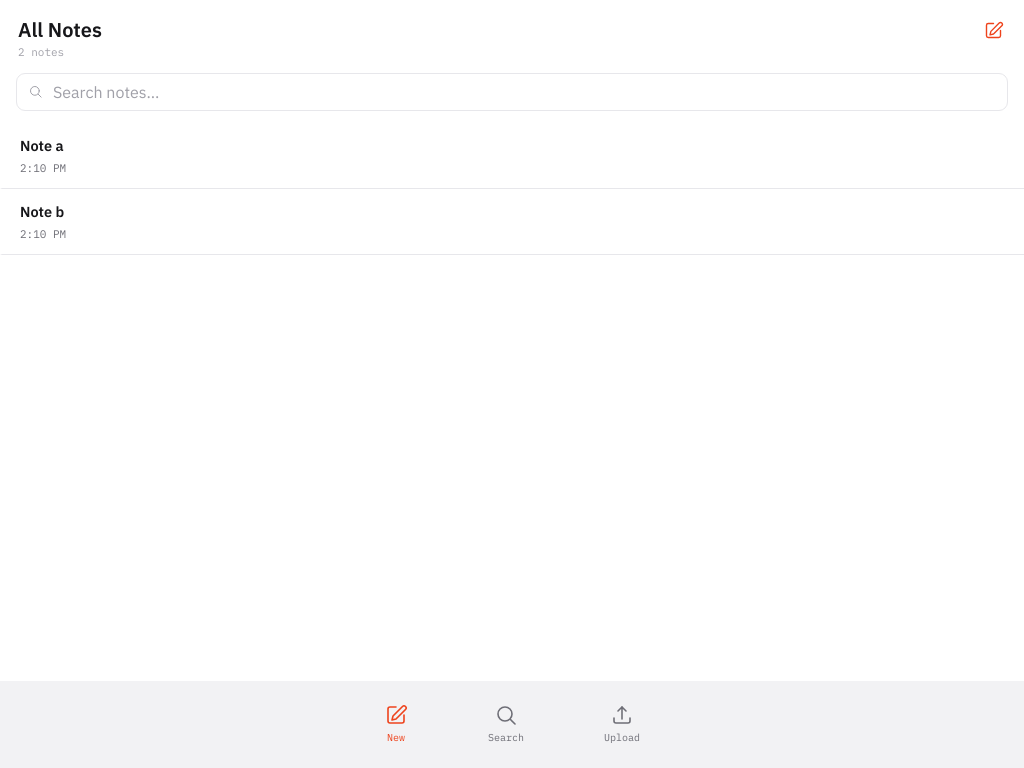
Test: HomeView search — desktop (in-place in the list pane, no /search hop) › the ✕ clears the query and restores the list; the field stays live (no closed state)
Type "gro" into the search field with class "home__search-input" at (524,92), box [51,80,996,102]
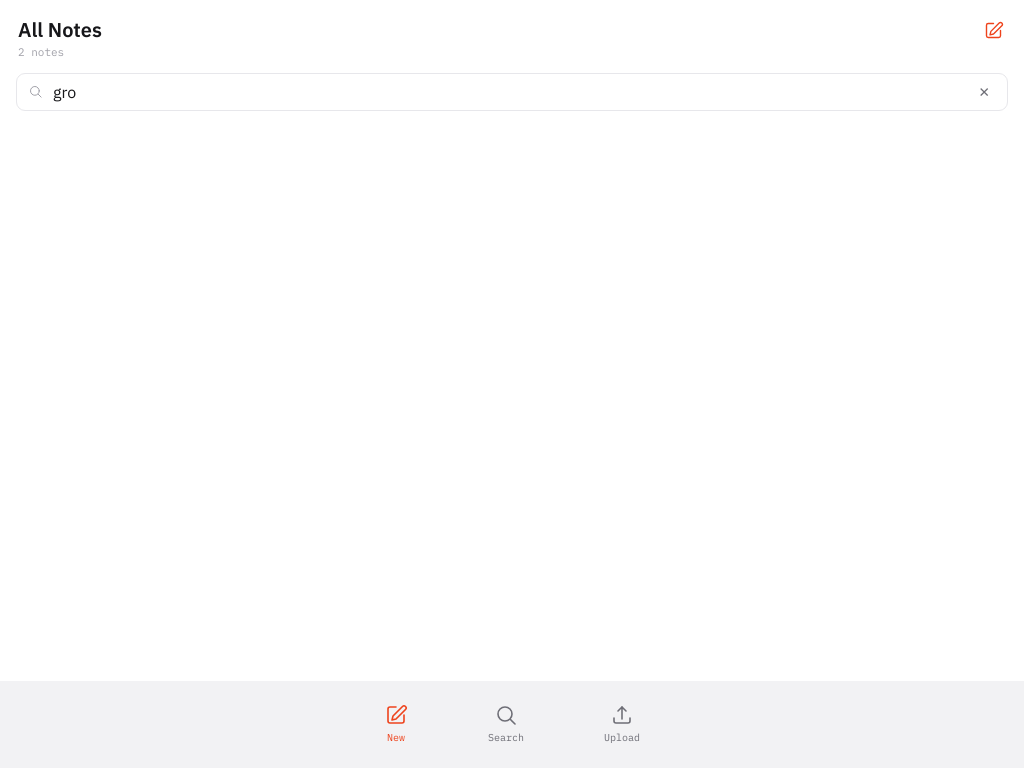
Expected: the button with class "home__search-close" is shown
Click the button with class "home__search-close" at (984,92), box [973,82,996,102]
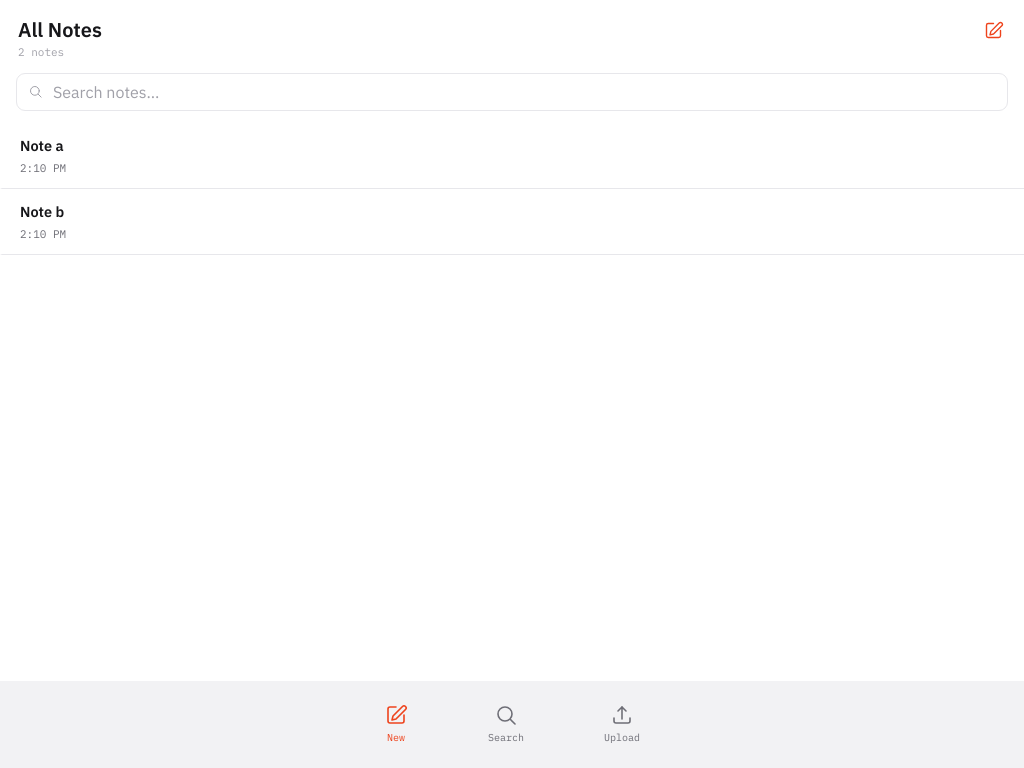
Expected: the search field with class "home__search-input" is shown, [51,80,996,102]
Expected: the list with class "home__notes" is shown, [0,122,1023,255]
